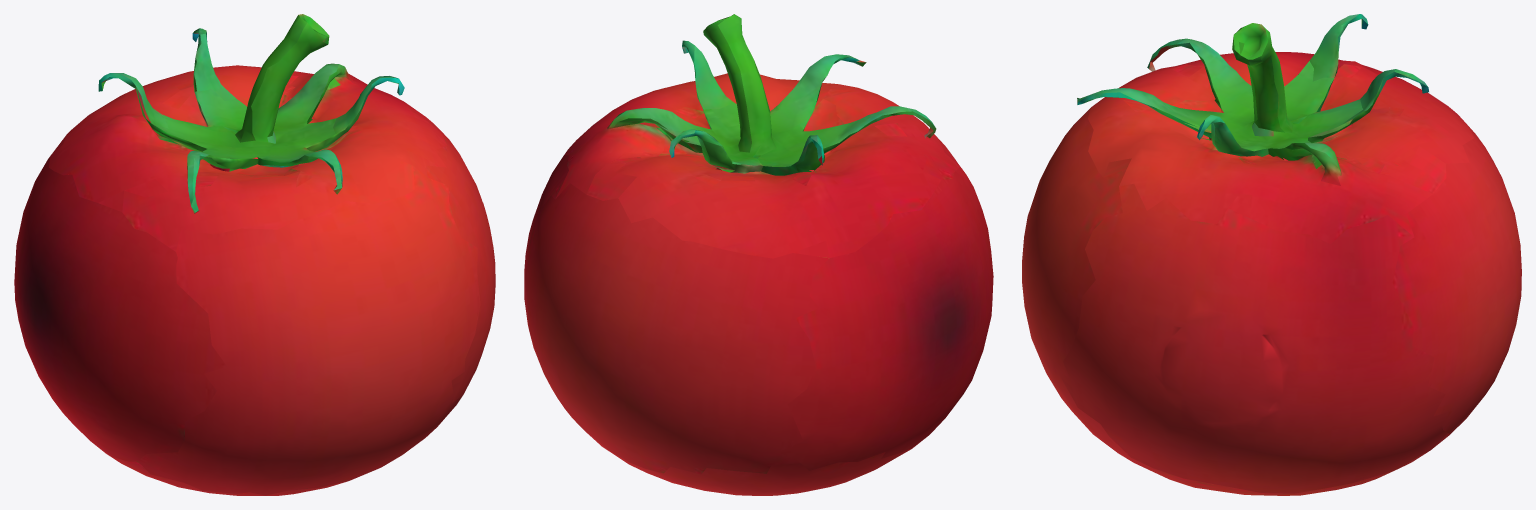
File: tomato.glb
3 renders of one model, left to right at view 1: azimuth 30°, elevation 25°; view 2: azimuth 150°, elevation 25°; view 3: azimuth 270°, elevation 25°, orthographic. The views are drawn at different scales.
Visible parts, largest first — view 1: tomato; view 2: tomato; view 3: tomato.
Boxes of the visible parts, <box> form: tomato: <box>14,14,495,495</box>; tomato: <box>524,14,993,495</box>; tomato: <box>1022,14,1521,495</box>.
Size of the model in its own units: 0.9927 by 1 by 0.9966.
Materials: 1 (1 with a texture image).
